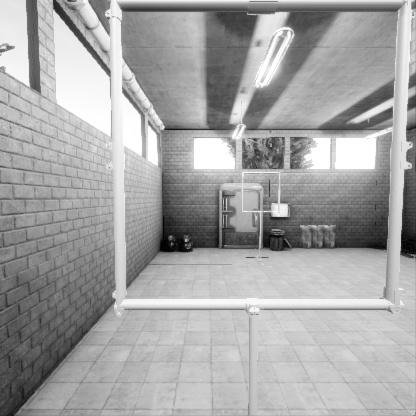gate: (120, 125, 416, 416), (242, 205, 282, 245)
